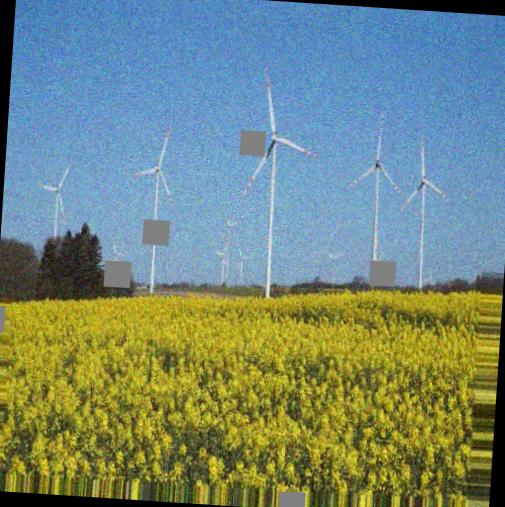wind turbine: (245, 68, 321, 300), (346, 126, 405, 281), (133, 129, 172, 306), (402, 137, 445, 283), (38, 165, 72, 250)
